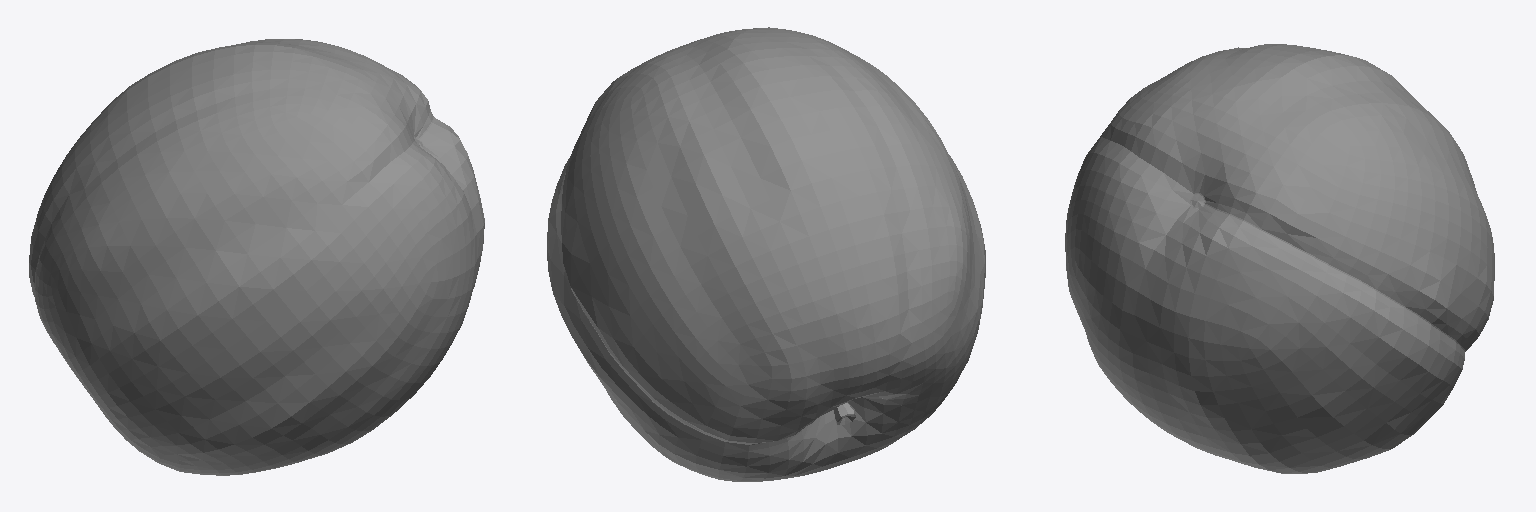
3 views of the same model, side by side, from view 1: azimuth 30°, elevation 25°; view 2: azimuth 150°, elevation 25°; view 3: azimuth 270°, elevation 25° (orthographic).
Visible parts, largest first — view 1: AM130_004_002; view 2: AM130_004_002; view 3: AM130_004_002.
Boxes of the visible parts, x1=… form: AM130_004_002: x1=29, y1=39, x2=484, y2=475; AM130_004_002: x1=547, y1=27, x2=985, y2=481; AM130_004_002: x1=1065, y1=44, x2=1494, y2=473.
Size of the model in its own units: 8.94 by 8.79 by 8.53.